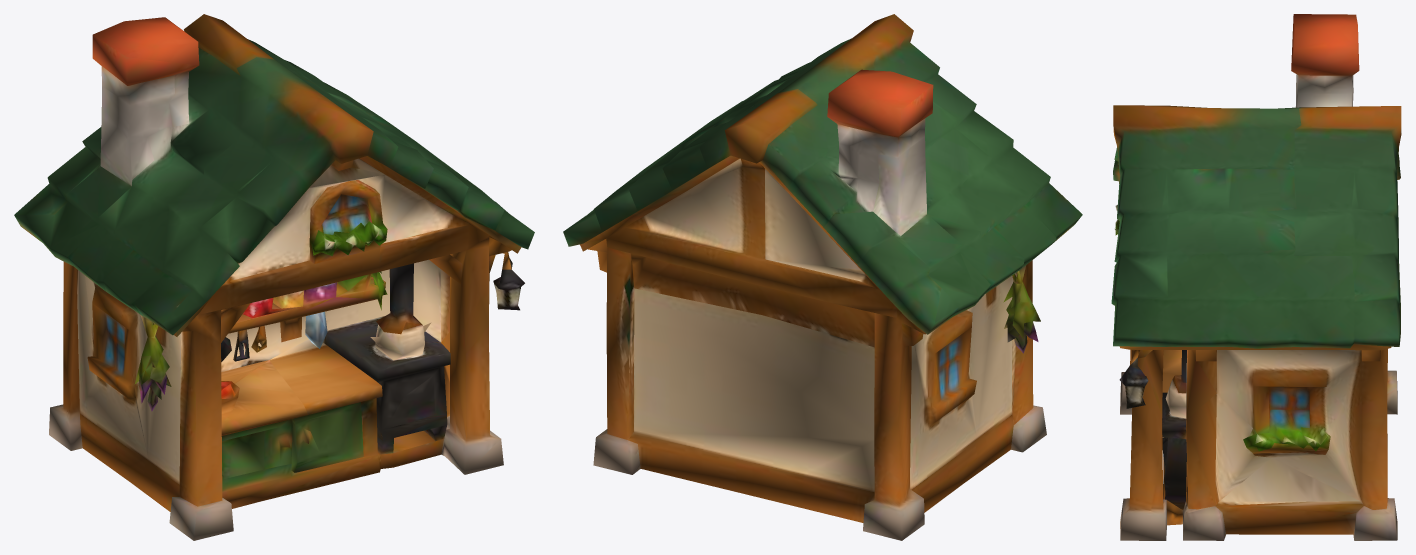
File: jamkitchen.glb
3 views of the same model, side by side, from view 1: azimuth 30°, elevation 25°; view 2: azimuth 150°, elevation 25°; view 3: azimuth 270°, elevation 25° (orthographic). The views are drawn at different scales.
Visible parts, largest first — view 1: model; view 2: model; view 3: model.
Part boxes in pixels (bbox=[...]): model: bbox=[14, 14, 534, 540]; model: bbox=[563, 14, 1082, 540]; model: bbox=[1111, 14, 1401, 540].
Size of the model in its own units: 1.8 by 1.89 by 1.25.
1 material, 1 textured.
